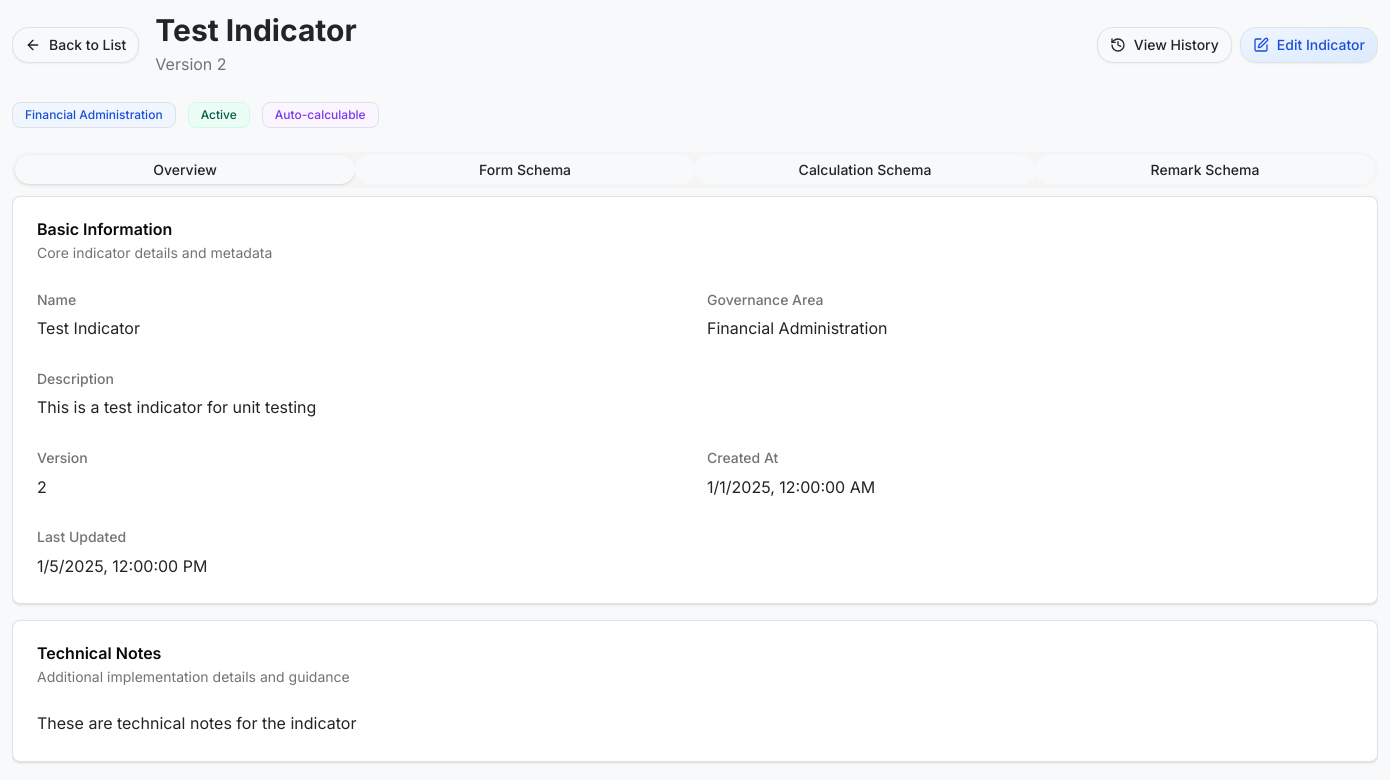
Test: IndicatorDetail › displays remark schema JSON viewer
Click on Remark Schema tab
Click the tab "Remark Schema": [1205, 170] box [1035,155,1375,184]
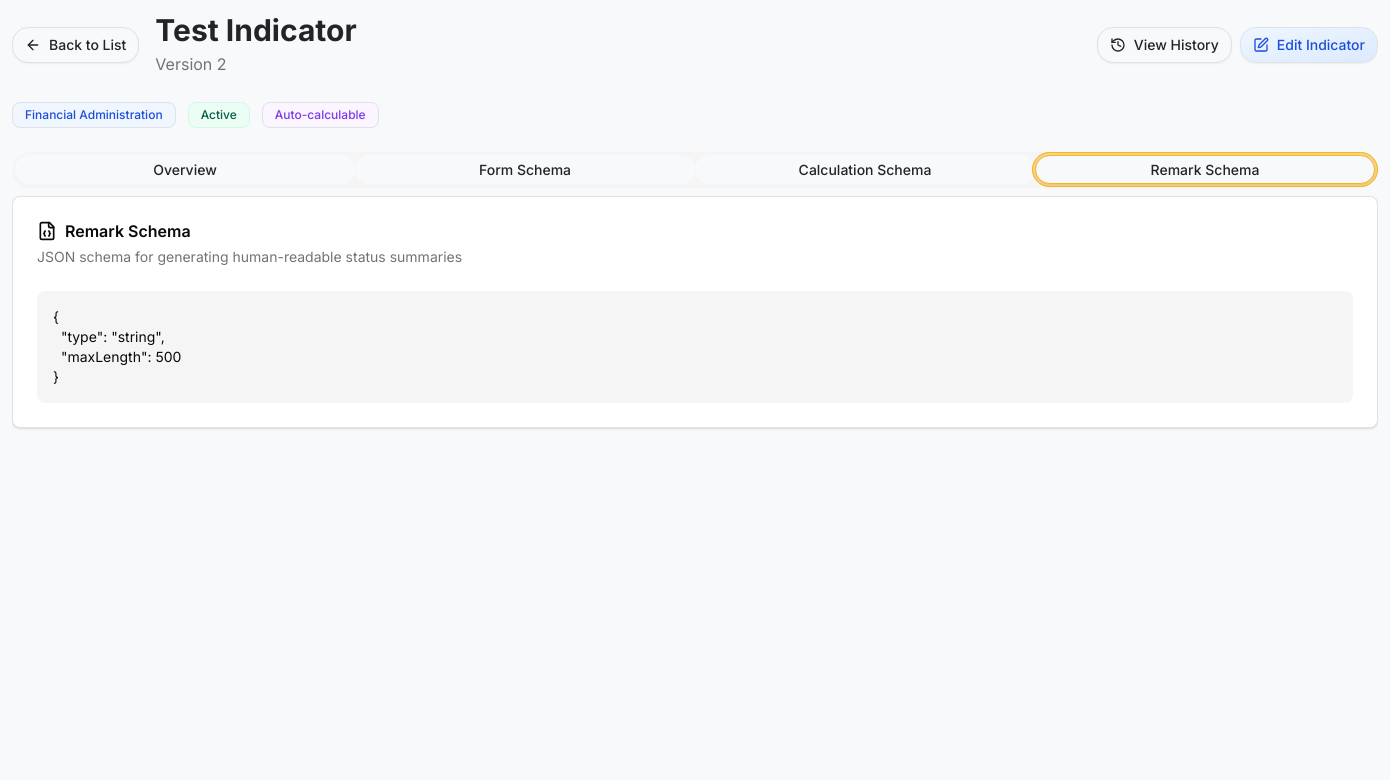
Result: the text "{ \"type\": \"string\", \"maxLength\": 500 }" is shown at [37,291,1353,403]
